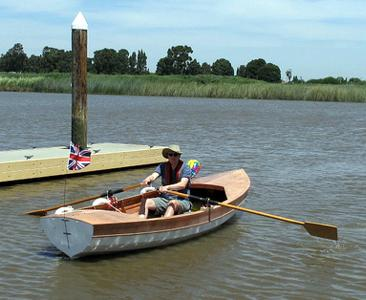person: (137, 145, 194, 220)
